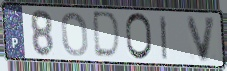8: (29, 9, 56, 58)
D: (93, 10, 123, 61)
I: (158, 14, 169, 62)
O: (124, 12, 154, 62), (60, 11, 90, 58)
V: (184, 15, 218, 64)
